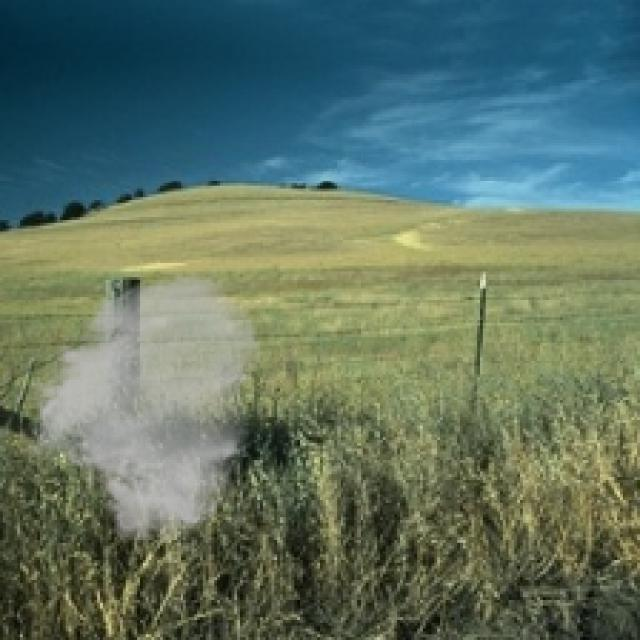smoke: (23, 268, 263, 546)
